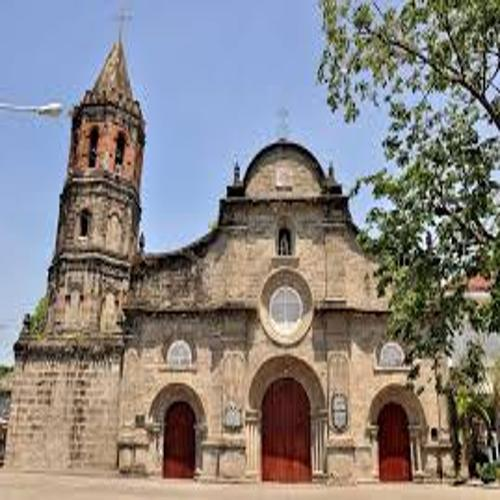Barasoain Church: (13, 6, 450, 486)
